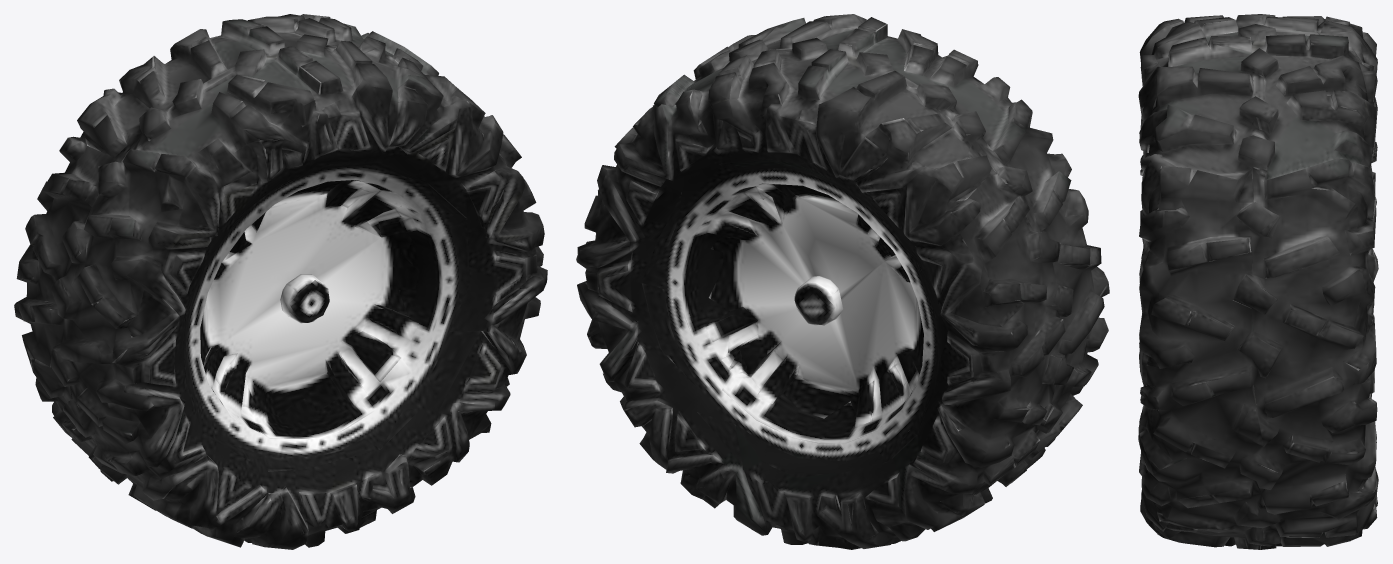
The model's file is quad-tire.glb.
3 views of the same model, side by side, from view 1: azimuth 30°, elevation 25°; view 2: azimuth 150°, elevation 25°; view 3: azimuth 270°, elevation 25° (orthographic). The views are drawn at different scales.
Visible parts, largest first — view 1: Mesh_0; view 2: Mesh_0; view 3: Mesh_0.
Part boxes in pixels (x1,y1,x2,y2): Mesh_0: (14,14,547,549); Mesh_0: (576,14,1109,549); Mesh_0: (1138,14,1378,549).
Bounding box in the file's own units: 0.6988 × 0.7 × 0.3137.
Materials: 1 (1 with a texture image).
